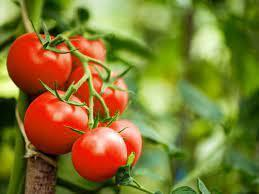healthy-tomato: (46, 61, 132, 131), (7, 31, 81, 102), (27, 85, 90, 155), (72, 128, 136, 184), (111, 122, 144, 172)
